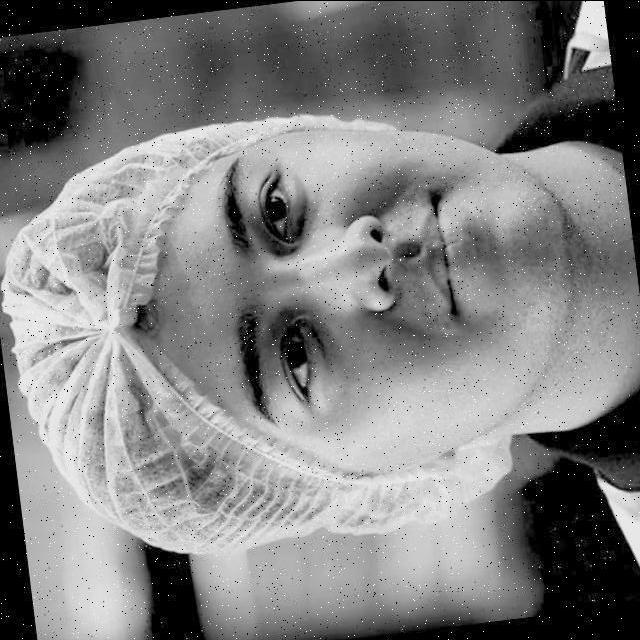no_hairnet: (328, 158, 506, 436)
